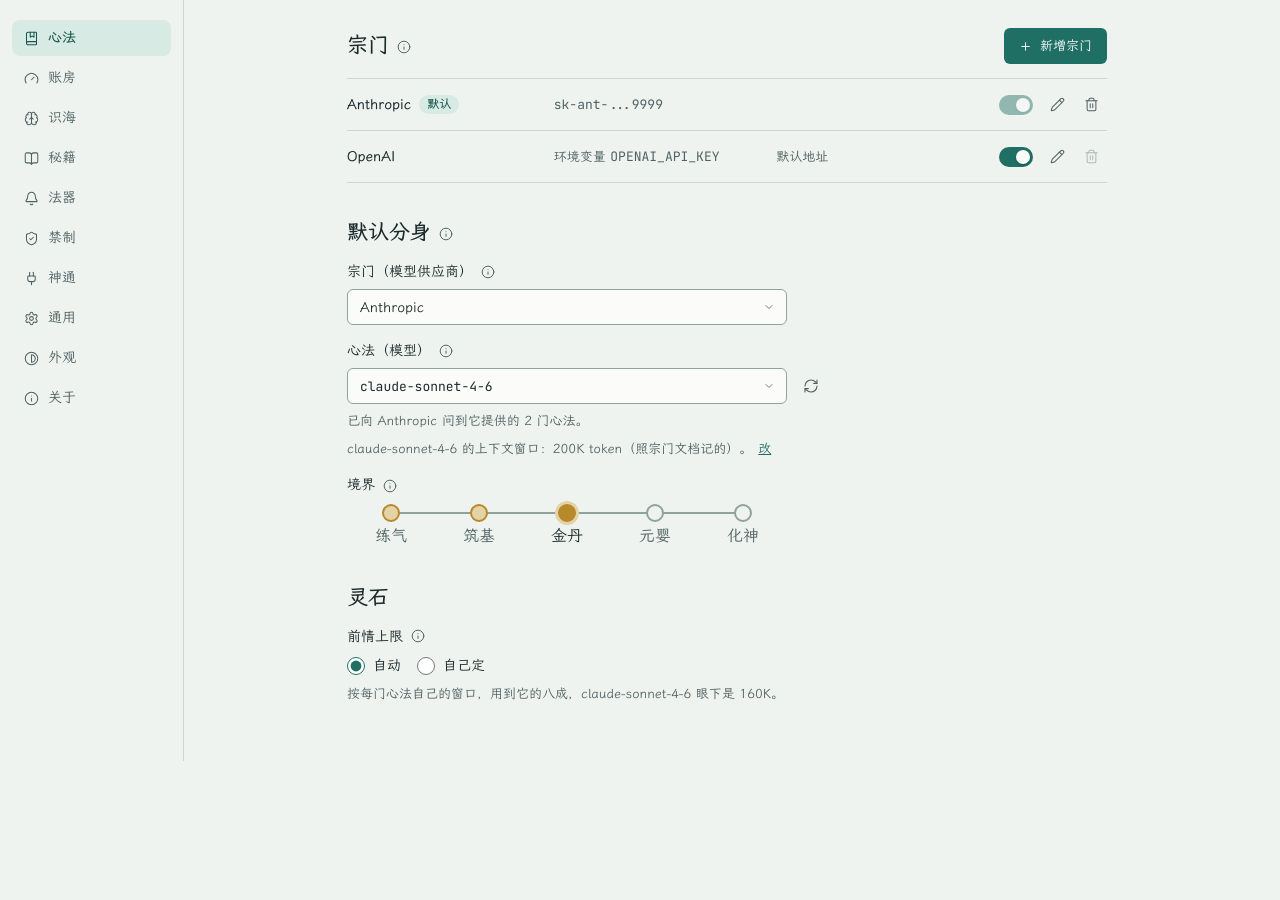
Test: SettingsPage component (P1-15 & P2-14) › renders provider key status, queries provider models, and saves model/grant changes
This screenshot has width=1280, height=900.
Later steps or results of the test are not shown.
Expected: the text "sk-ant-...9999" is shown, [554,96,663,113]
Expected: the text "OPENAI_API_KEY" is shown, [610,148,720,165]
Step 1. Click the radio button labelled "元婴" → x=655, y=514, box [646,504,664,522]
Switch to rules tab and revoke a saved grant
Step 2. Click the button "禁制" → x=92, y=238, box [12,220,171,256]
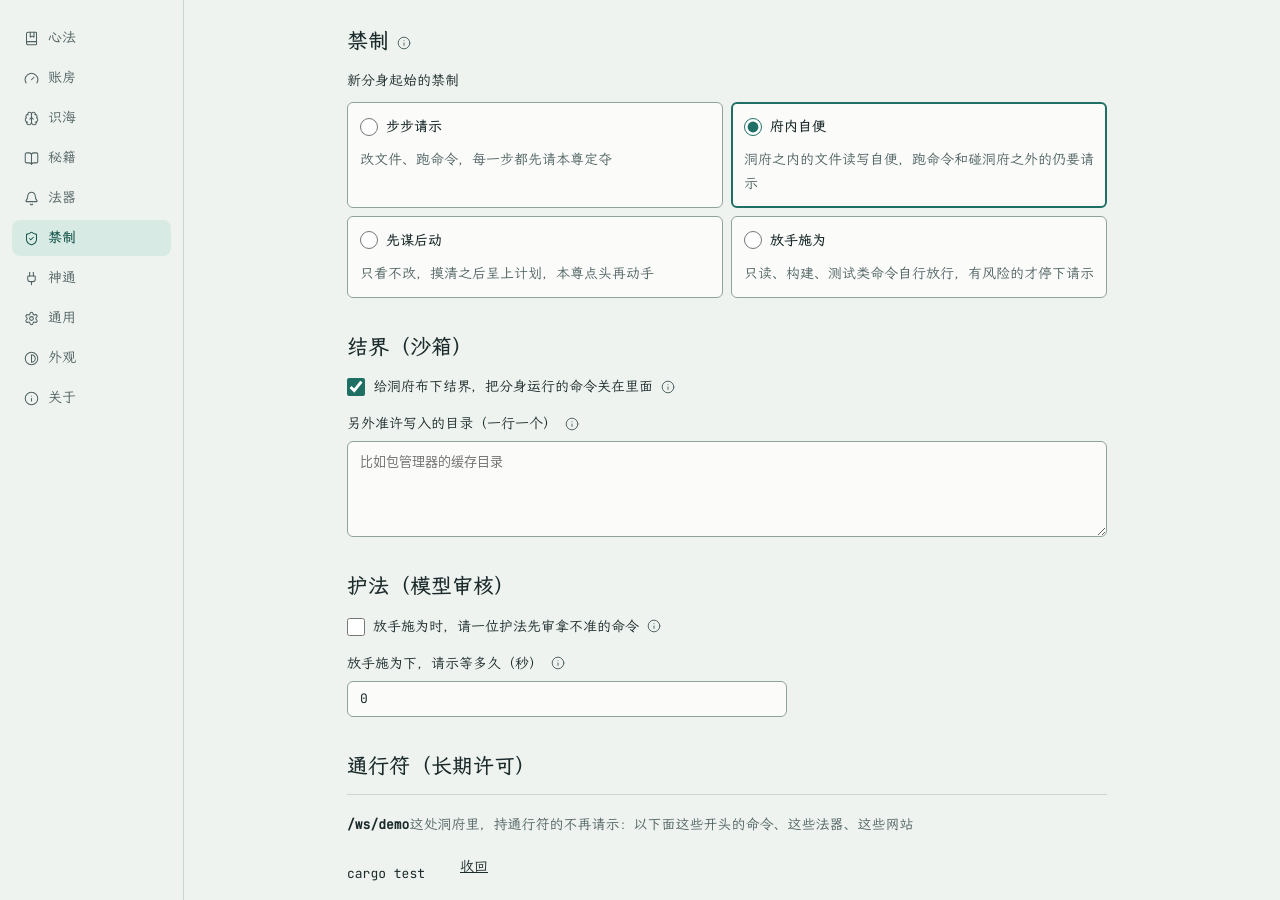
Now the text "cargo test" is shown, box [347,863,425,884]
